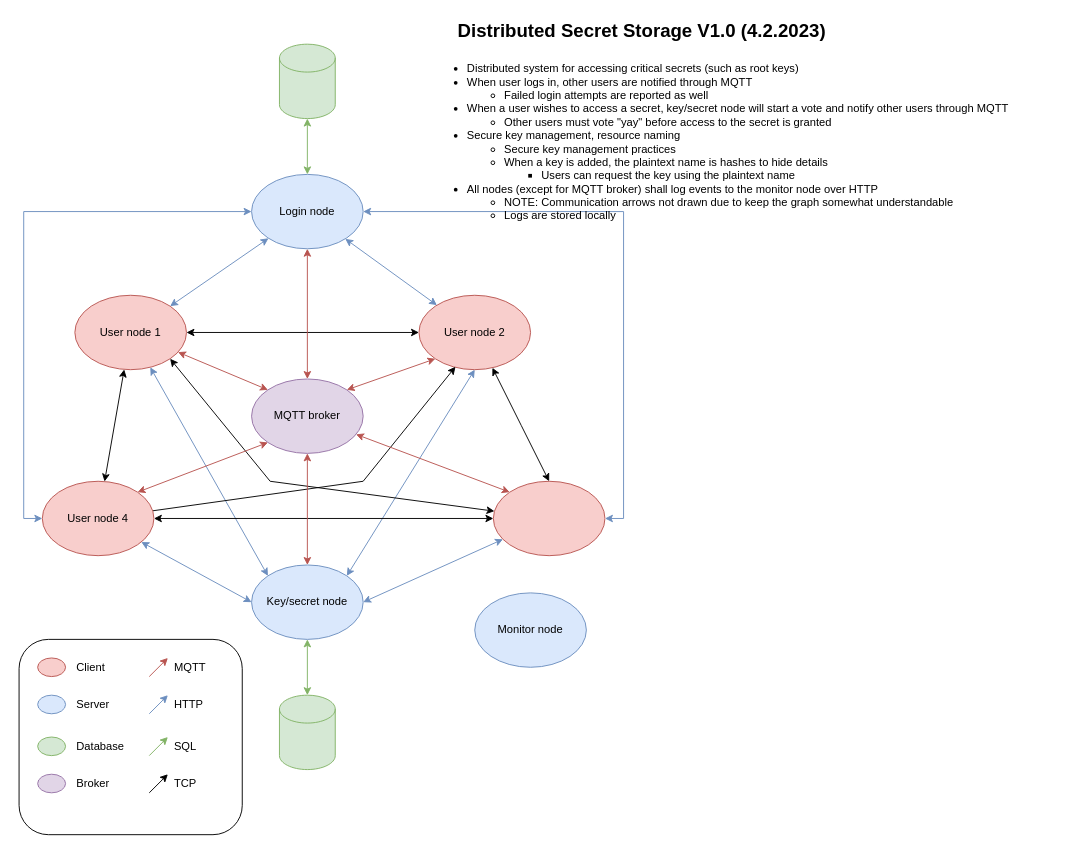
Some shapes in this 1086 by 851 pixel diagram are drawn without their labels. The centre of each missing label's shape, as x and y in pixels:
Key/secret db: (x=307, y=732)
User db: (x=307, y=81)
User node 3: (x=548, y=518)
